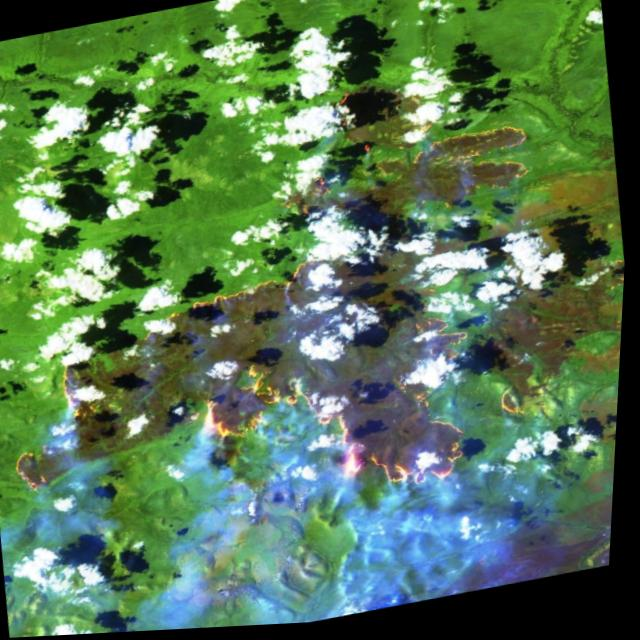fire: (0, 47, 637, 572)
